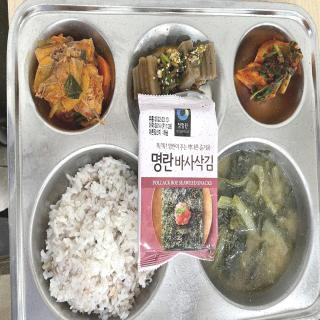Nasi: (40, 156, 138, 320)
